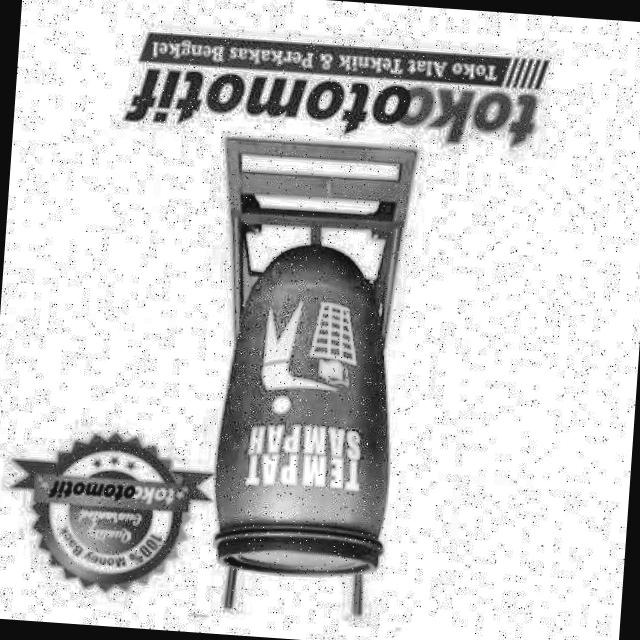Dustbin: (195, 240, 414, 618)
